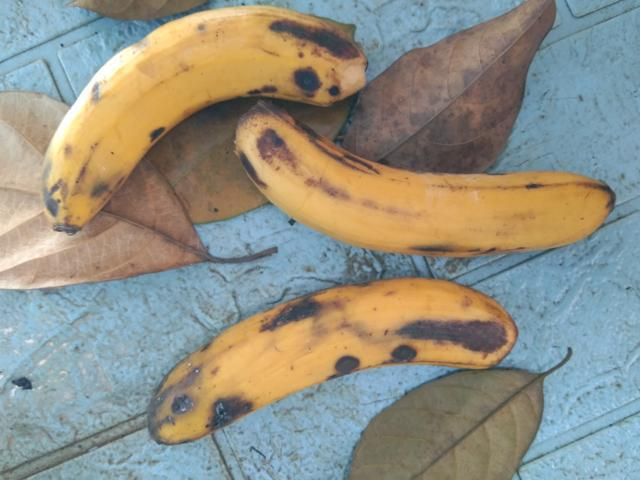overripe: (133, 260, 525, 476), (20, 9, 369, 246)
ripe: (245, 111, 616, 280)
